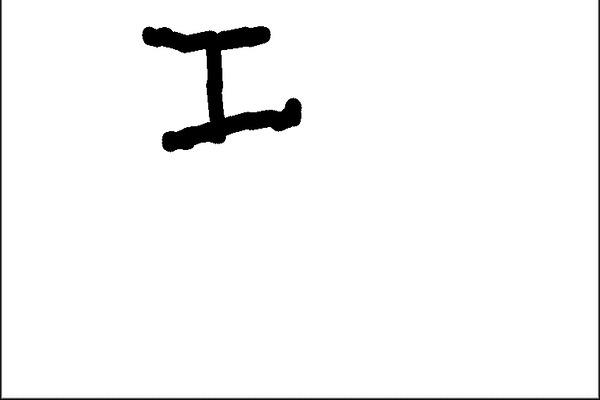i: (137, 13, 301, 159)
